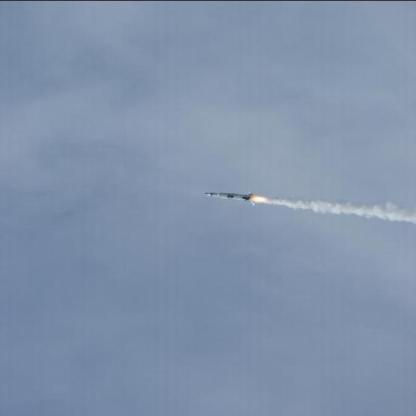MIL_TBM: (203, 188, 258, 203)
